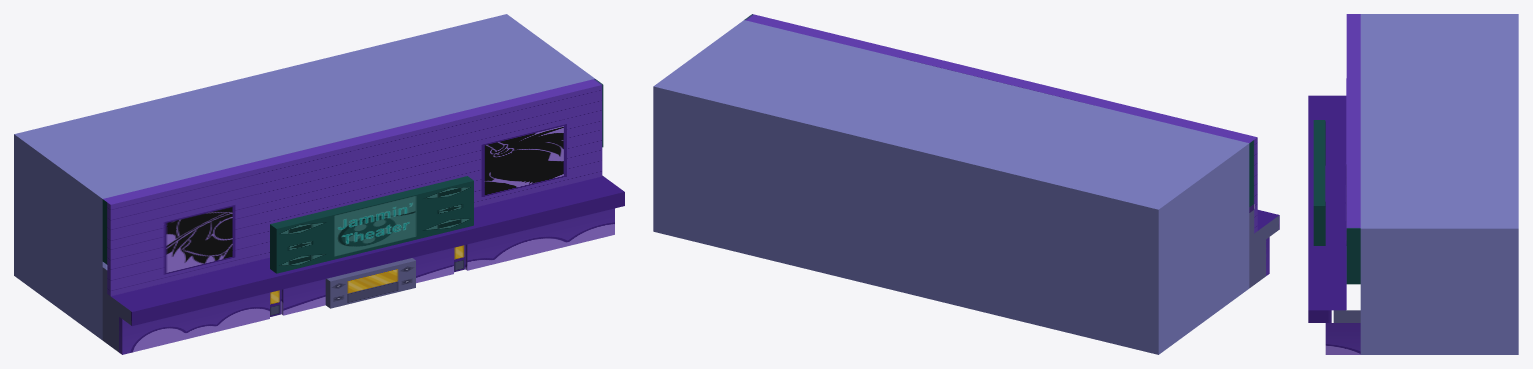
File: Movies.fbx
3 renders of one model, left to right at view 1: azimuth 30°, elevation 25°; view 2: azimuth 150°, elevation 25°; view 3: azimuth 270°, elevation 25°, orthographic. The views are drawn at different scales.
Visible parts, largest first — view 1: Movie_Theater_Front_polySurface1, polySurface1; view 2: polySurface1, Movie_Theater_Front_polySurface1; view 3: polySurface1, Movie_Theater_Front_polySurface1.
Boxes of the visible parts, <box> form: Movie_Theater_Front_polySurface1: <box>102,79,624,354</box>; polySurface1: <box>14,14,594,340</box>; polySurface1: <box>653,20,1249,354</box>; Movie_Theater_Front_polySurface1: <box>744,14,1279,288</box>; polySurface1: <box>1360,14,1518,354</box>; Movie_Theater_Front_polySurface1: <box>1308,14,1360,354</box>.
Size of the model in its own units: 42.53 by 11.68 by 17.64.
2 materials, 1 textured.
